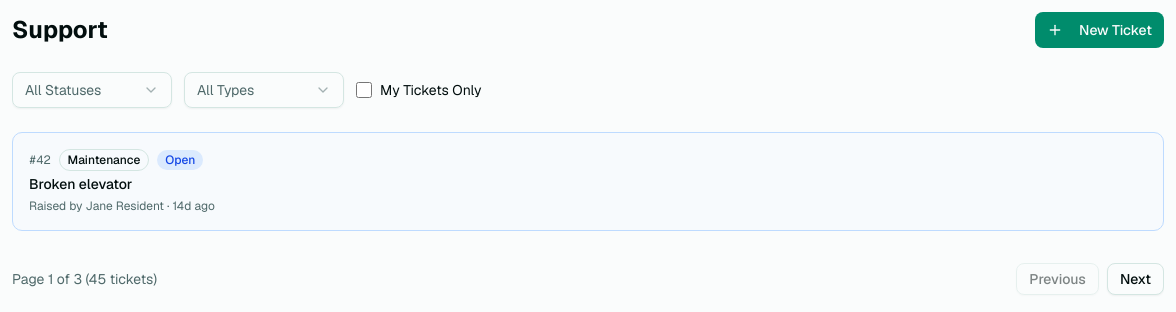
Test case: ResidentSupportPage › pagination › navigates back to previous page
The image size is (1176, 312).
Go to page 2
Click the button "Next". click: (1135,279)
box: [1107,263,1164,295]
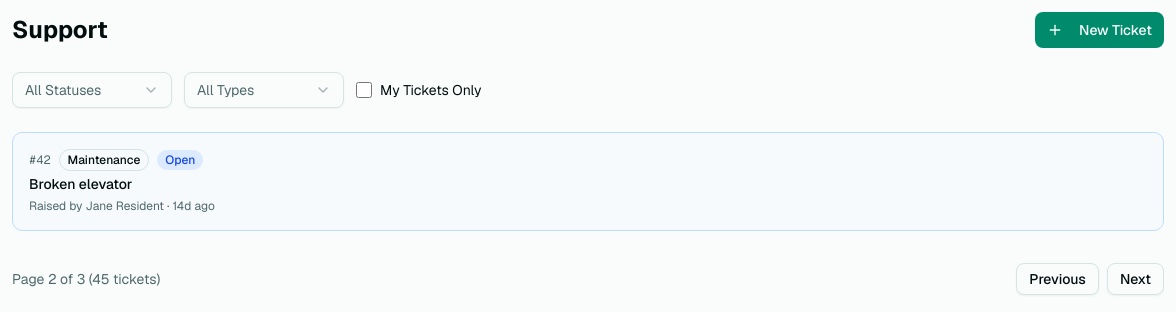
expect the text "Page 2 of 3 (45 tickets)" is shown: met, box [12,269,160,289]
Go back to page 1
Click the button "Previous". click: (1058,279)
box: [1016,263,1099,295]
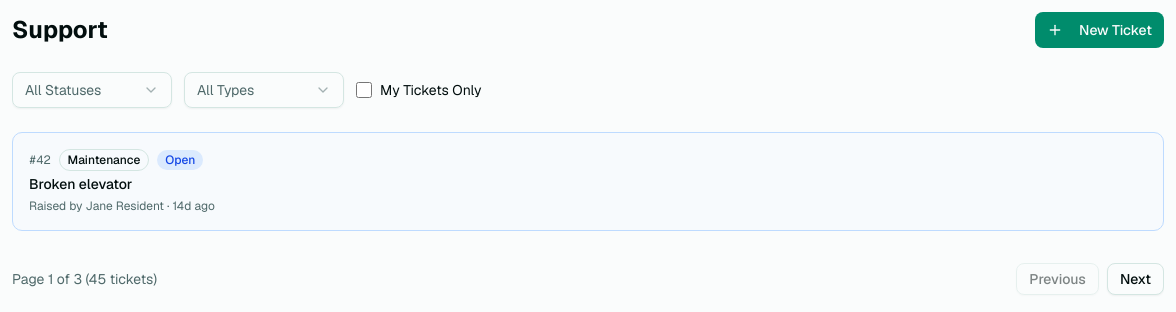
expect the text "Page 1 of 3 (45 tickets)" is shown: met, box [12,269,157,289]
